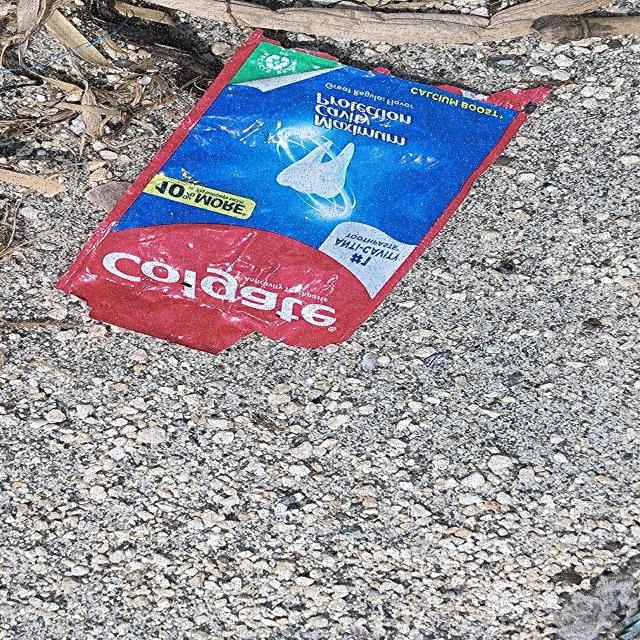plastic_waste: (54, 29, 556, 358)
